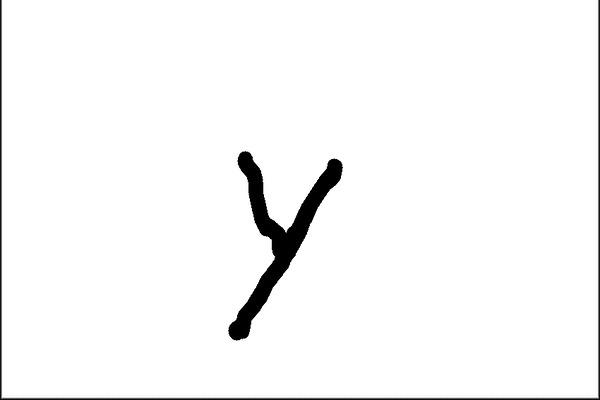Y: (213, 141, 360, 349)
